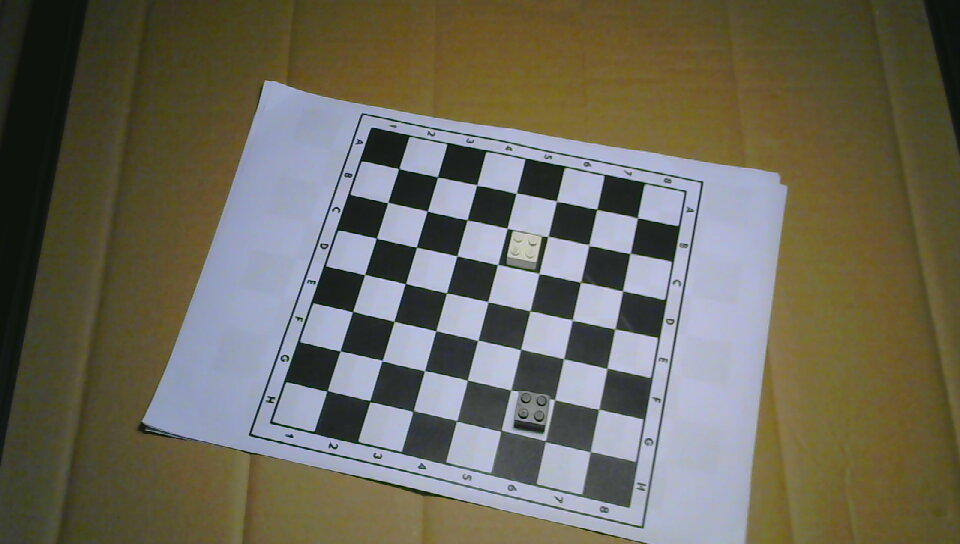bp: (511, 388, 551, 433)
wp: (505, 229, 542, 272)
